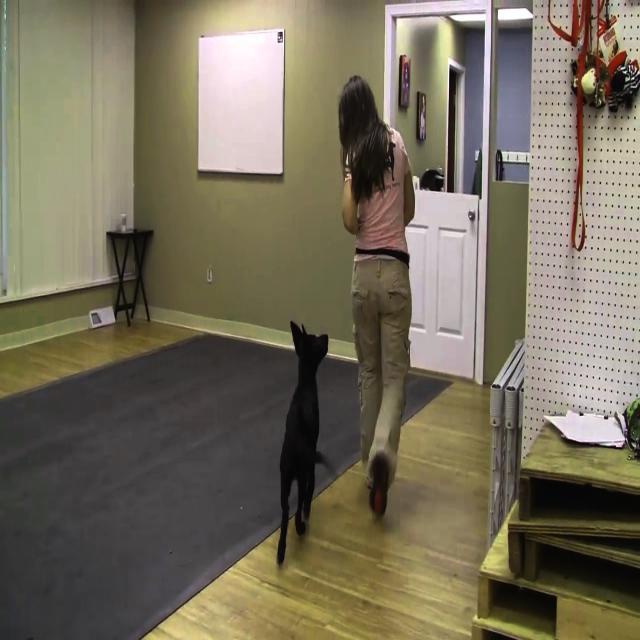Unleashed_Dog: (277, 320, 394, 563)
